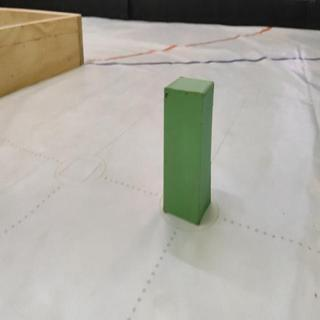greenbox: (162, 75, 216, 226)
